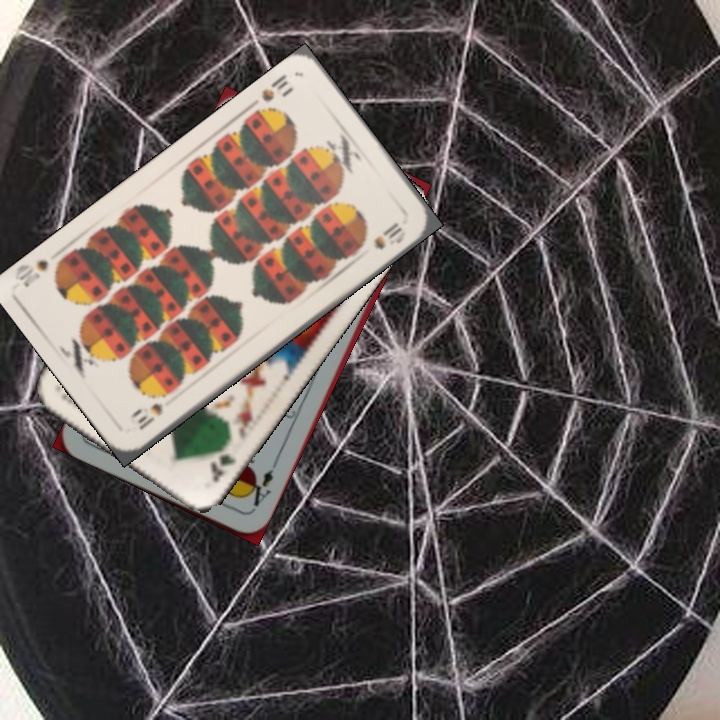EA: (242, 458, 280, 514)
GK: (206, 449, 239, 485)
S10: (257, 69, 290, 105), (133, 399, 166, 433)
